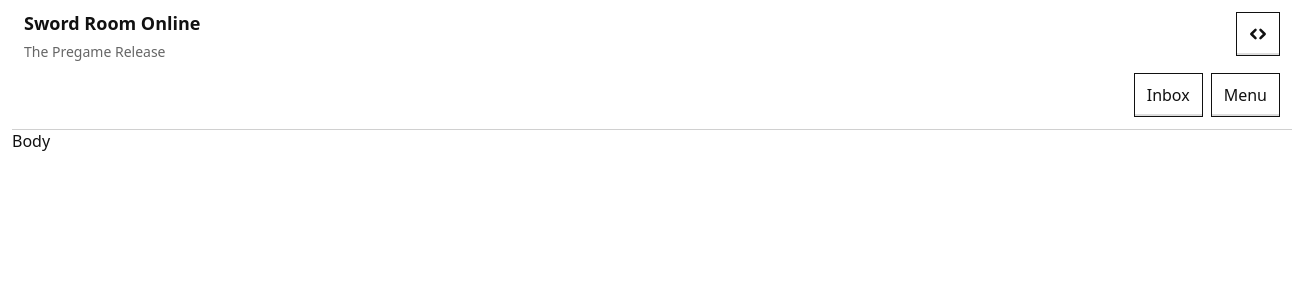
AppShell › closes the utility menu after clicking a menu link
Click the button "Menu": (1245, 95) [1211, 73, 1280, 117]
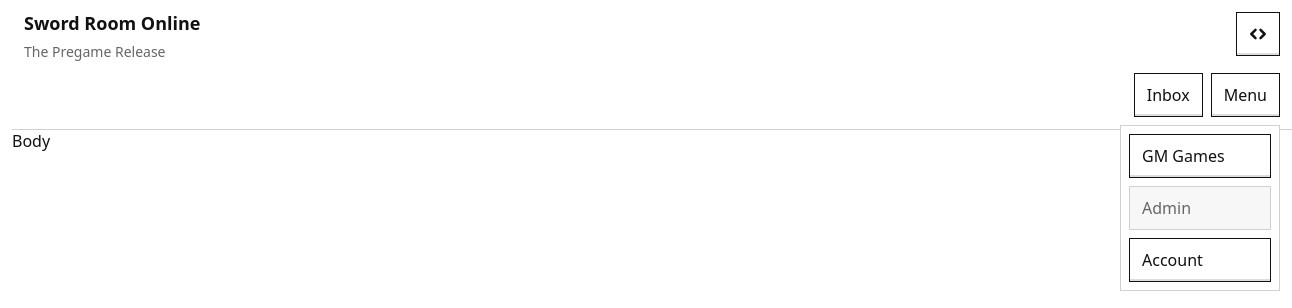
Check: the link "Account" is shown
Click the link "Account": (1200, 260) [1129, 238, 1271, 282]
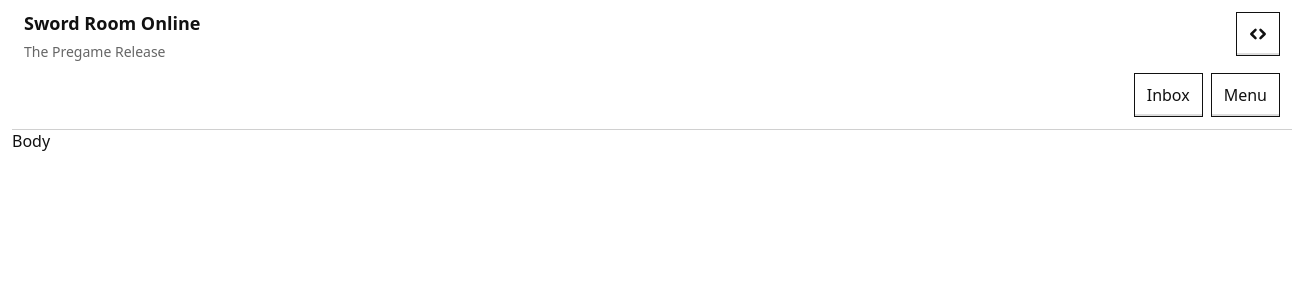
Check: the link "Account" is gone
